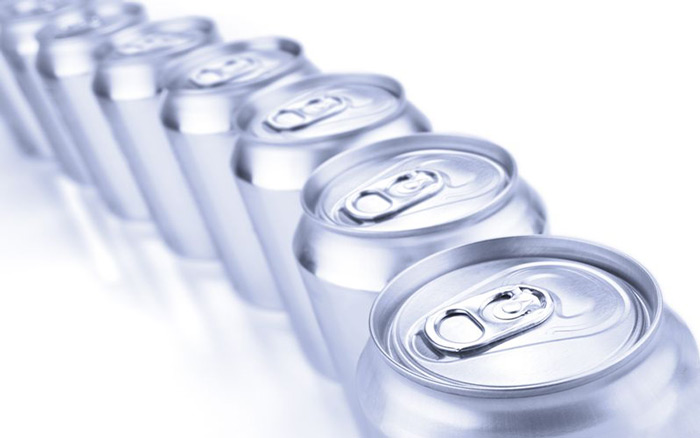beer can: (291, 136, 549, 438), (228, 87, 476, 387), (354, 232, 697, 438), (163, 32, 364, 313), (92, 17, 247, 263), (40, 4, 166, 229)
